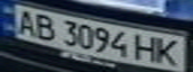0: (75, 21, 96, 51)
3: (57, 18, 81, 47)
4: (109, 28, 133, 58)
9: (90, 25, 112, 54)
A: (9, 7, 39, 36)
B: (30, 11, 60, 42)
H: (133, 33, 160, 63)
K: (151, 36, 184, 68)
